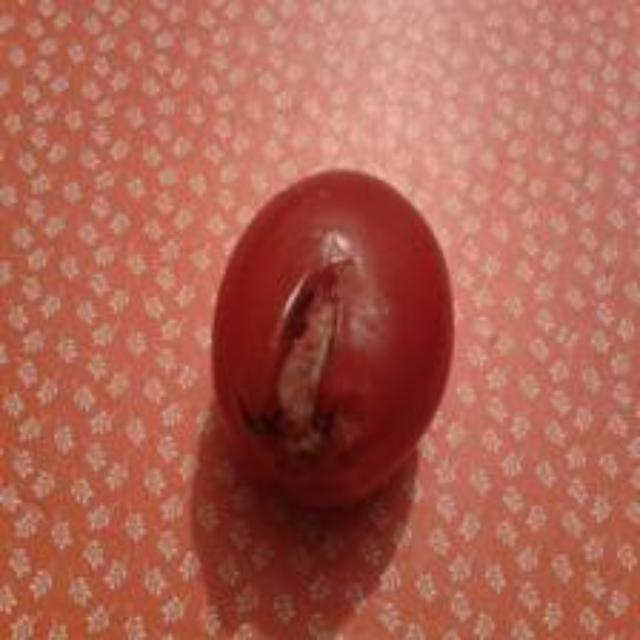defect: (208, 162, 459, 510)
